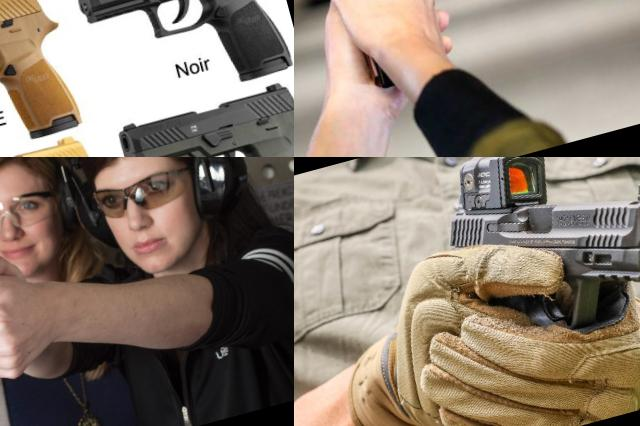handgun: (425, 157, 640, 379), (67, 0, 294, 119), (0, 0, 115, 157), (112, 74, 294, 157), (0, 32, 100, 157), (314, 0, 431, 104), (0, 220, 68, 359)
